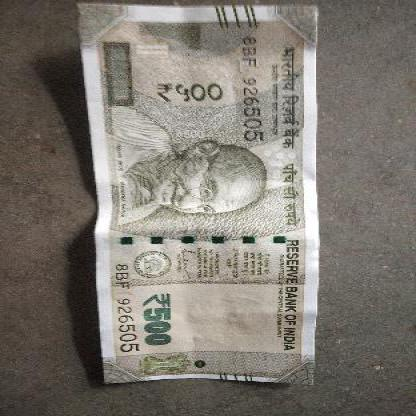New500Front: (78, 4, 314, 382)
